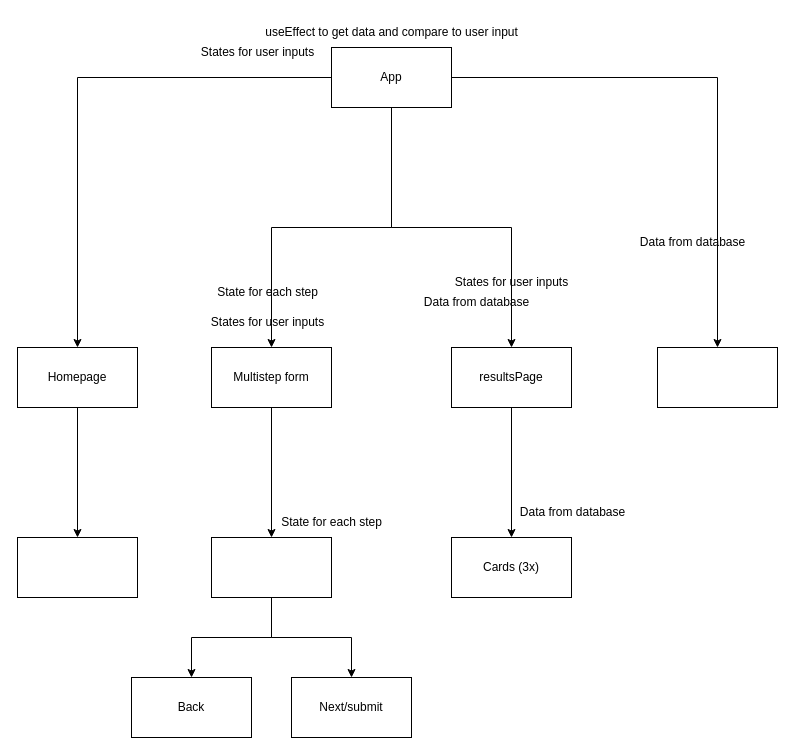
Some shapes in this 795 by 755 pixel diagram are drawn without their labels. The centre of each missing label's shape, as x and y in pixels:
"goToFormButton" goes at (x=77, y=567).
"infoPage" goes at (x=717, y=377).
"Inputs (5x)" goes at (x=271, y=567).
